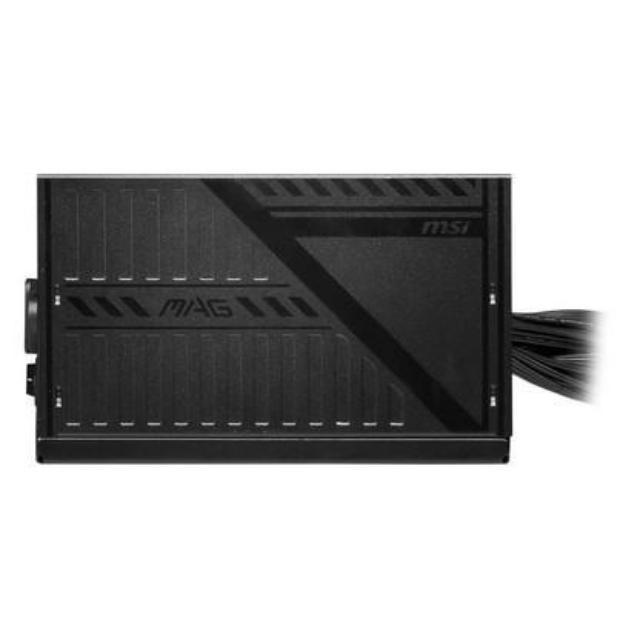PSU: (14, 169, 524, 471)
